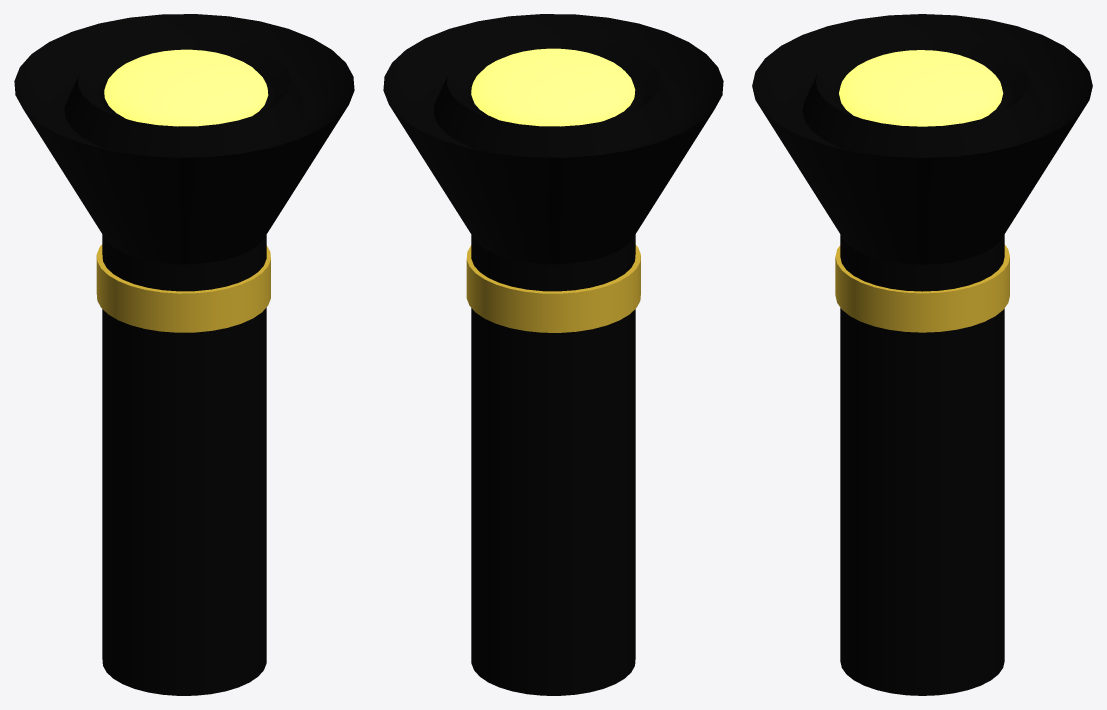
File: flashlight.fbx
3 views of the same model, side by side, from view 1: azimuth 30°, elevation 25°; view 2: azimuth 150°, elevation 25°; view 3: azimuth 270°, elevation 25° (orthographic).
Parts seen in each view (by area): view 1: Cylinder, Sphere, Cylinder.001; view 2: Cylinder, Sphere, Cylinder.001; view 3: Cylinder, Sphere, Cylinder.001.
Boxes of the visible parts, box(x1,y1,x2,y2) form: Cylinder: box(14, 14, 354, 695); Sphere: box(104, 49, 268, 126); Cylinder.001: box(96, 244, 270, 332); Cylinder: box(383, 14, 723, 695); Sphere: box(471, 48, 635, 126); Cylinder.001: box(466, 245, 640, 332); Cylinder: box(752, 14, 1092, 695); Sphere: box(839, 50, 1003, 126); Cylinder.001: box(835, 244, 1009, 332).
Size of the model in its own units: 415 by 798 by 415.
